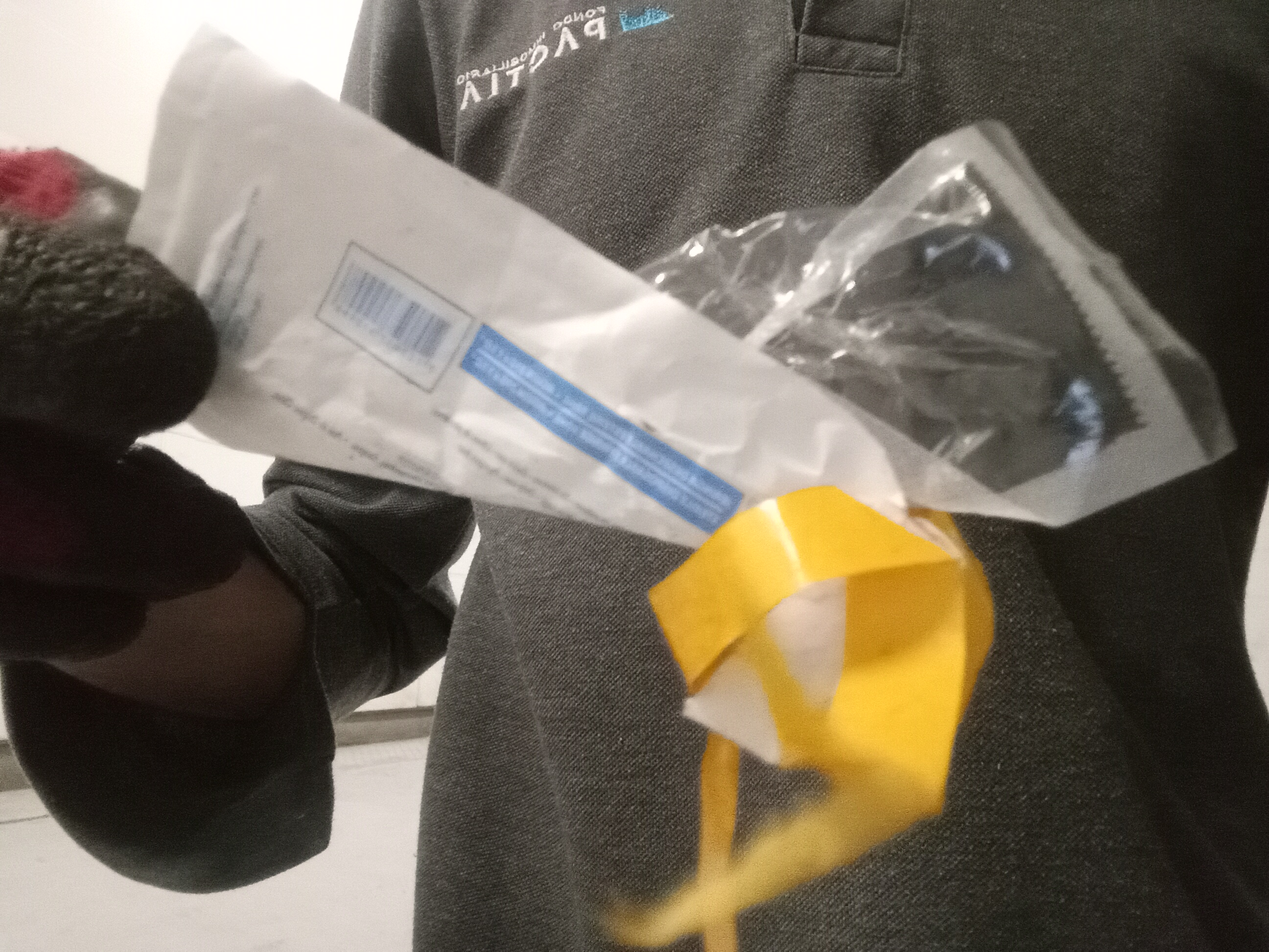Ordinario: (121, 25, 1234, 770)
